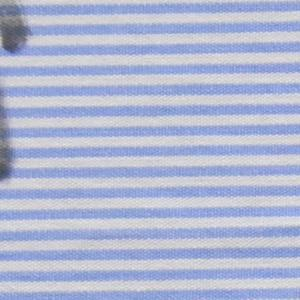Stain: (1, 2, 40, 60), (1, 88, 17, 186)
